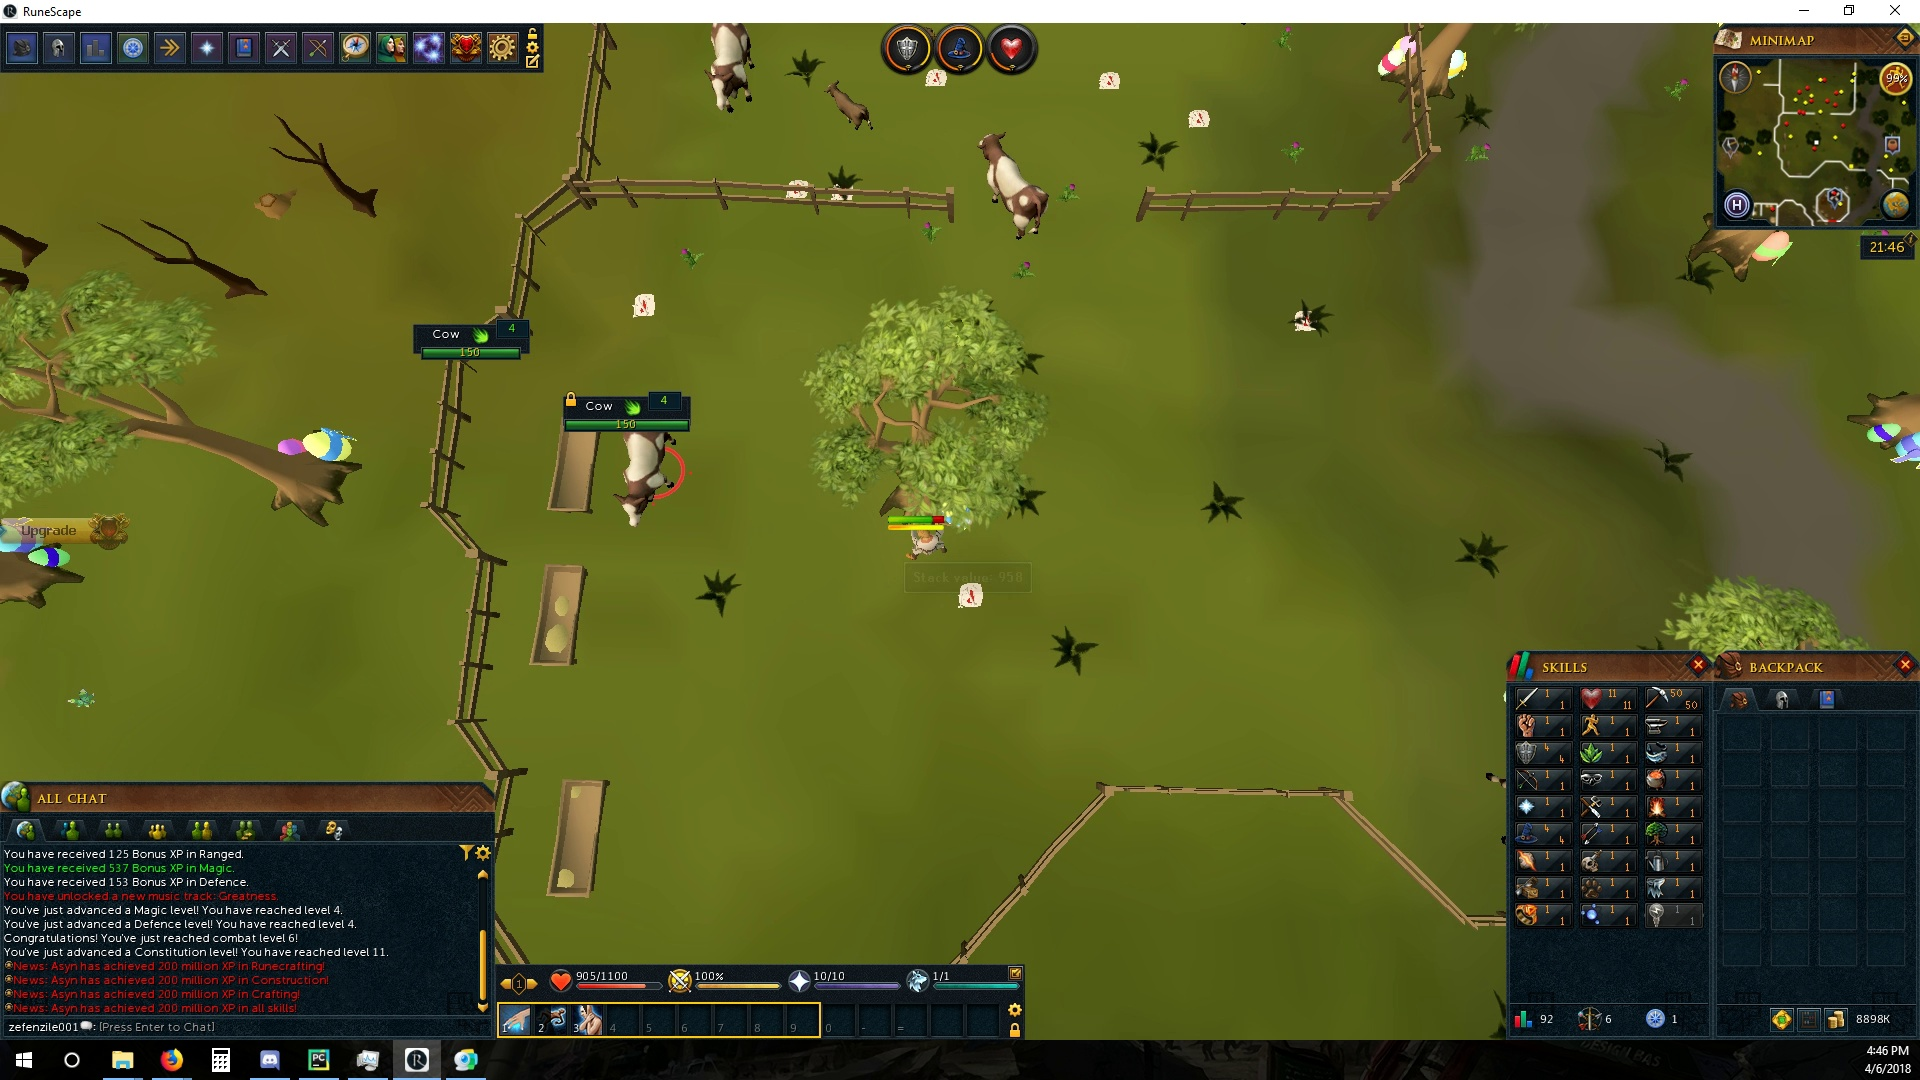calf: (824, 76, 877, 133)
cow: (971, 127, 1055, 243), (611, 429, 679, 529), (698, 24, 764, 121)
cow_drop: (1292, 301, 1329, 336), (948, 582, 986, 612), (1180, 102, 1213, 131), (626, 290, 659, 318), (922, 69, 953, 95), (779, 179, 815, 200), (1097, 69, 1124, 91)
